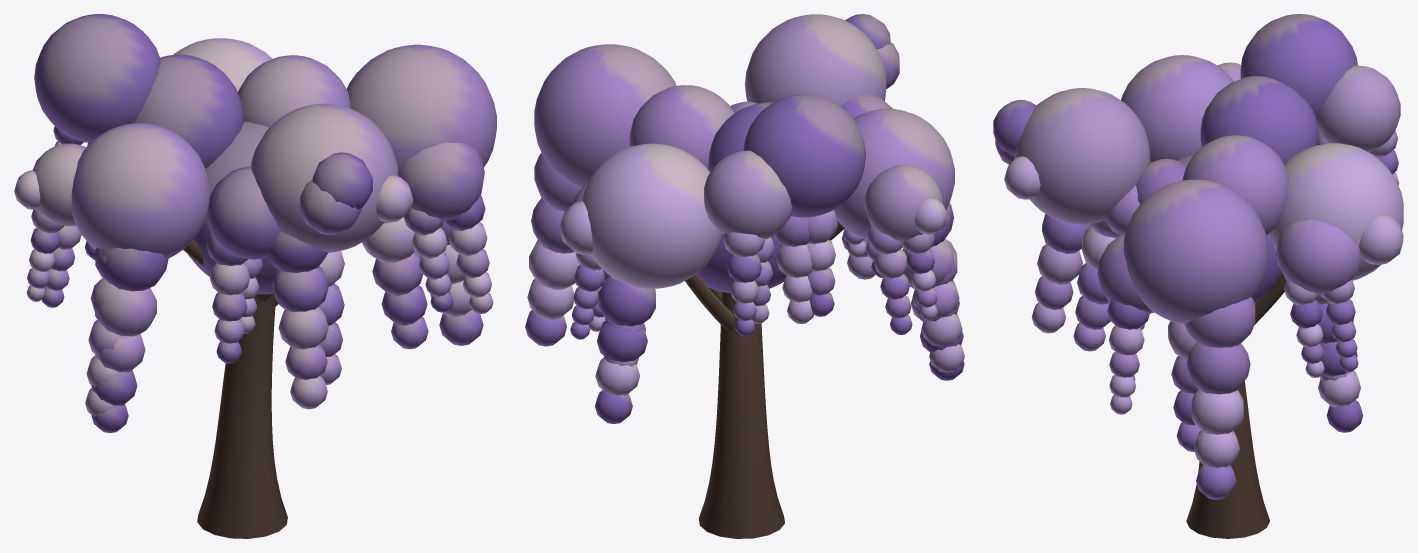
The model's file is weeping-tree.obj.
3 views of the same model, side by side, from view 1: azimuth 30°, elevation 25°; view 2: azimuth 150°, elevation 25°; view 3: azimuth 270°, elevation 25° (orthographic). The views are drawn at different scales.
Parts seen in each view (by area): view 1: tree; view 2: tree; view 3: tree.
Part boxes in pixels (x1,y1,x2,y2): tree: (14, 14, 496, 538); tree: (525, 14, 964, 538); tree: (993, 14, 1403, 538).
Bounding box in the file's own units: 375 × 395 × 323.
